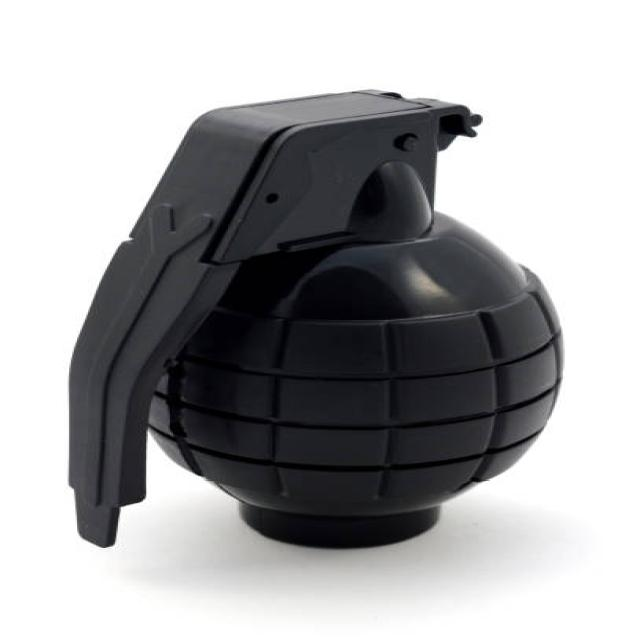grenade: (58, 87, 574, 561)
